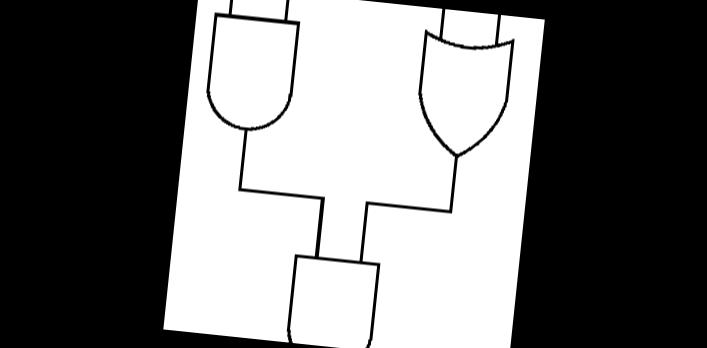and: (195, 0, 308, 146), (278, 242, 386, 348)
or: (405, 21, 521, 172)
